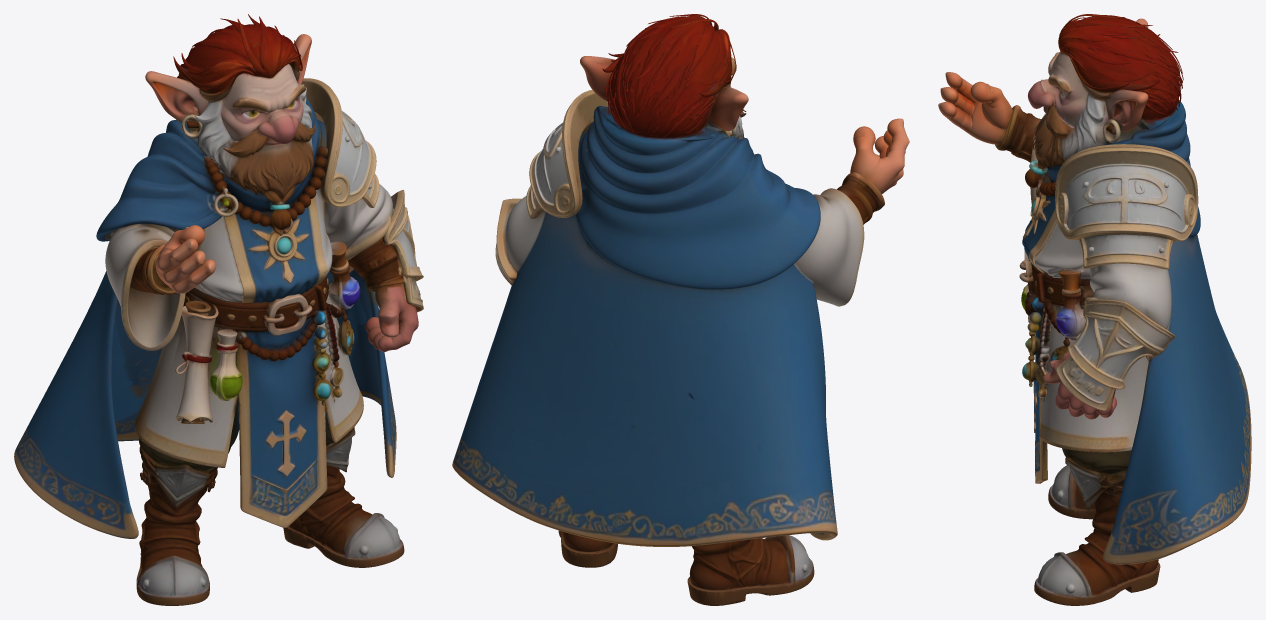
The model's file is gnome_cleric_full_male_01.glb.
3 views of the same model, side by side, from view 1: azimuth 30°, elevation 25°; view 2: azimuth 150°, elevation 25°; view 3: azimuth 270°, elevation 25° (orthographic). The views are drawn at different scales.
Visible parts, largest first — view 1: material; view 2: material; view 3: material.
Boxes of the visible parts, x1,y1,x2,y2 form: material: (14,14,423,605); material: (452,14,909,605); material: (938,14,1251,605).
Bounding box in the file's own units: 0.7679 × 1.07 × 0.576.
Materials: 1 (1 with a texture image).
